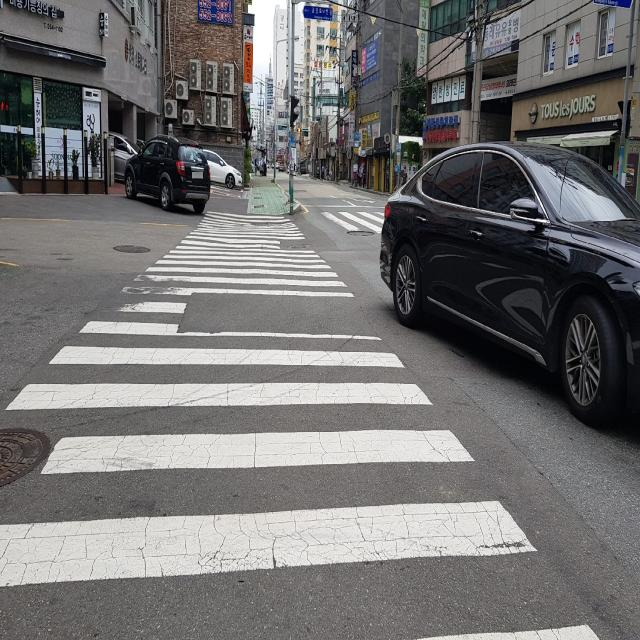횡단보도: (0, 208, 600, 640)
